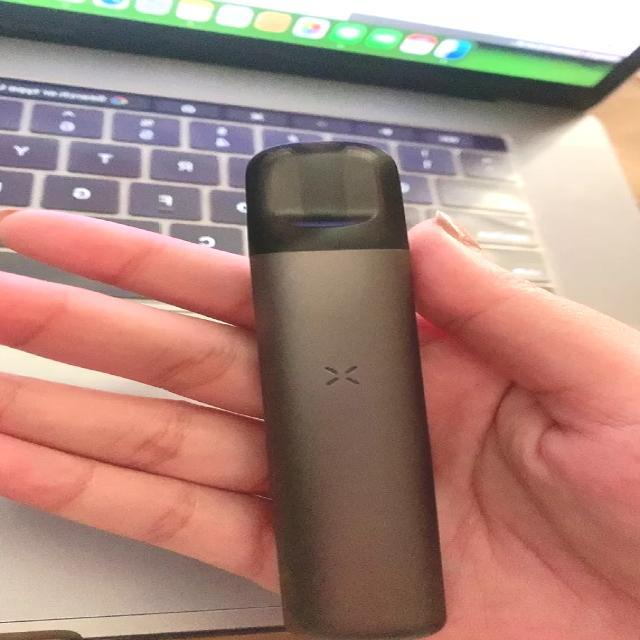Hazard: (241, 144, 448, 638)
